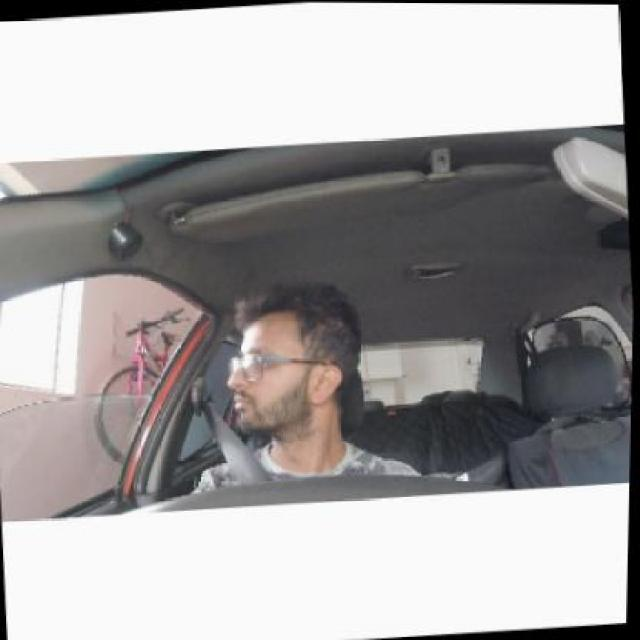LeftRight: (214, 263, 376, 466)
